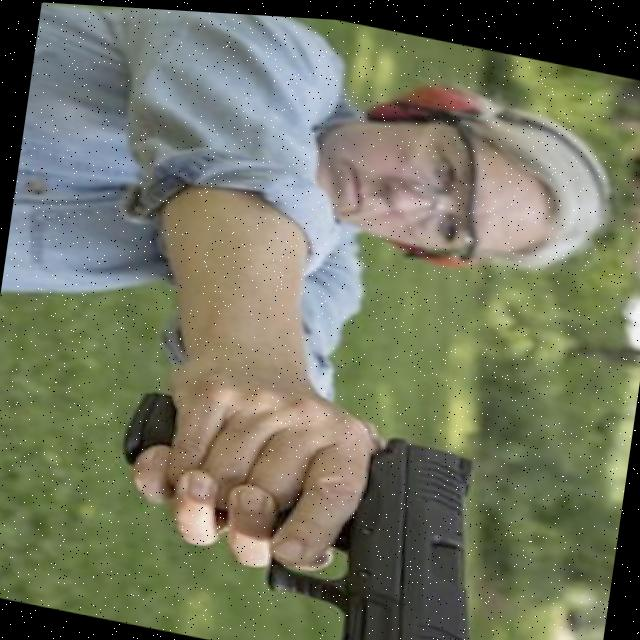pistol: (253, 406, 519, 640)
